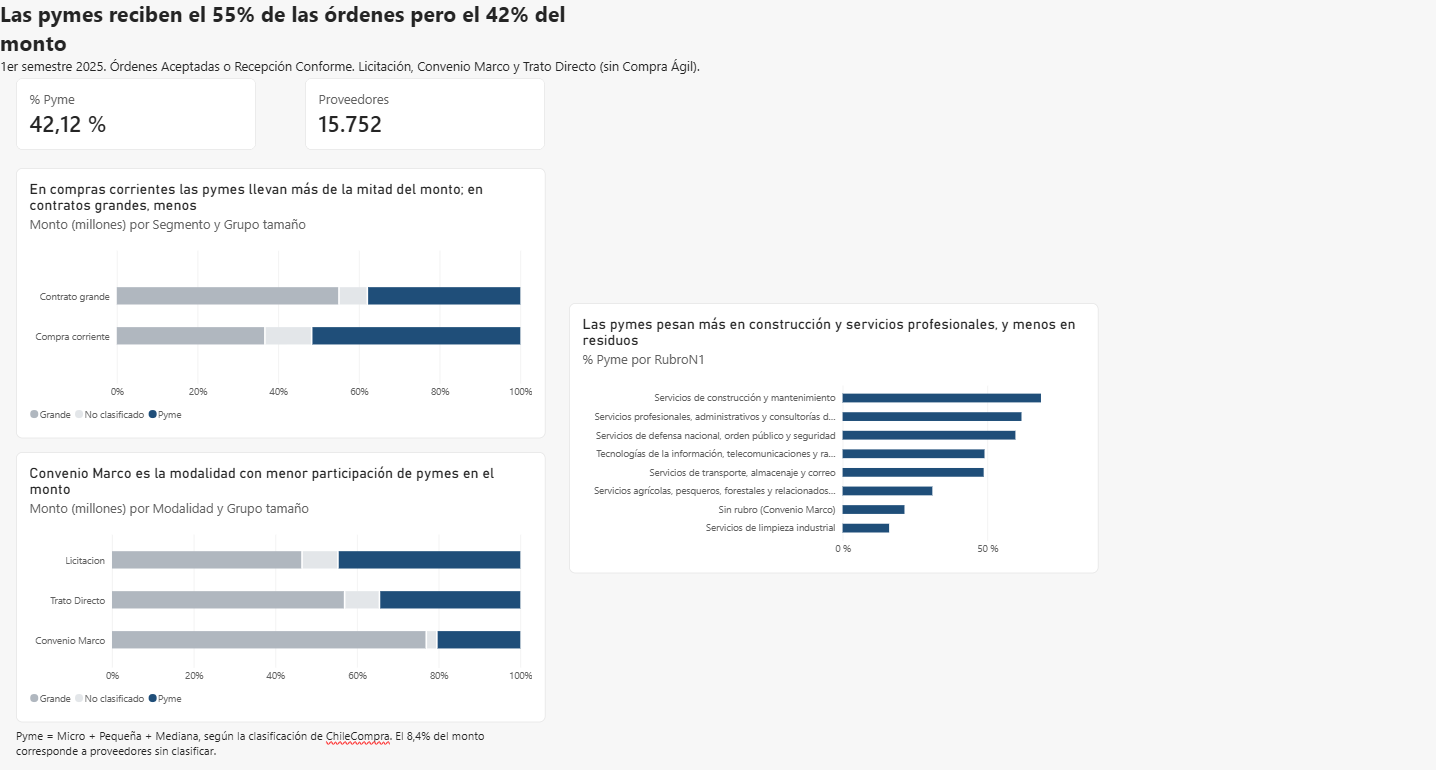

Layout of this report page (visuals, bound fields, positions):
{"tool":"powerbi","page":{"name":"Pymes","canvas":[1920,1080],"ordinal":1},"visuals":[{"type":"textbox","box":[0,1.3,770.1,37.2],"z":0},{"type":"textbox","box":[0,38.6,918.6,27.1],"z":1},{"type":"cardVisual","fields":{"Data":["ordenes.% Pyme"]},"box":[20,99.8,300,90],"z":2},{"type":"cardVisual","fields":{"Data":["ordenes.Proveedores"]},"box":[381.7,99.8,300,90],"z":3},{"type":"hundredPercentStackedBarChart","title":"En compras corrientes las pymes llevan más de la mitad del monto; en contratos grandes, menos","fields":{"Category":["ordenes.Segmento"],"Series":["ordenes.Grupo tamaño"],"Y":["ordenes.Monto (millones)"]},"box":[20,212.8,662.4,337.8],"z":4},{"type":"hundredPercentStackedBarChart","title":"Convenio Marco es la modalidad con menor participación de pymes en el monto","fields":{"Category":["ordenes.Modalidad"],"Series":["ordenes.Grupo tamaño"],"Y":["ordenes.Monto (millones)"]},"box":[20,567.9,662.4,337.8],"z":5},{"type":"clusteredBarChart","title":"Las pymes pesan más en construcción y servicios profesionales, y menos en residuos","fields":{"Category":["ordenes.RubroN1"],"Y":["ordenes.% Pyme"]},"box":[711.6,381.7,662.4,337.8],"z":6},{"type":"textbox","box":[20,960.3,662.4,66.5],"z":7}]}

Visuals, with their boxes on the page's 1920x1080 design canvas (x1, y1, x2, y2). These are canvas units, not pixel positions in the 1436x770 screenshot, which may show the page scaled, cropped or inside an application window:
textbox: [x1=0, y1=1, x2=770, y2=38]
textbox: [x1=0, y1=39, x2=919, y2=66]
cardVisual - ordenes.% Pyme: [x1=20, y1=100, x2=320, y2=190]
cardVisual - ordenes.Proveedores: [x1=382, y1=100, x2=682, y2=190]
"En compras corrientes las pymes llevan más de la mitad del monto; en contratos grandes, menos" hundredPercentStackedBarChart: [x1=20, y1=213, x2=682, y2=551]
"Convenio Marco es la modalidad con menor participación de pymes en el monto" hundredPercentStackedBarChart: [x1=20, y1=568, x2=682, y2=906]
"Las pymes pesan más en construcción y servicios profesionales, y menos en residuos" clusteredBarChart: [x1=712, y1=382, x2=1374, y2=720]
textbox: [x1=20, y1=960, x2=682, y2=1027]
